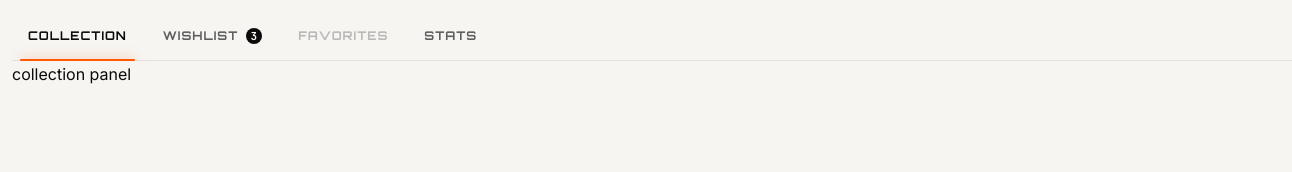
Tabs › selects on click and hides inactive panels
The width and height of the screenshot is (1292, 172).
Click the tab "Wishlist 3". click: {"x": 213, "y": 36}
box: top-left (147, 12), bottom-right (278, 60)
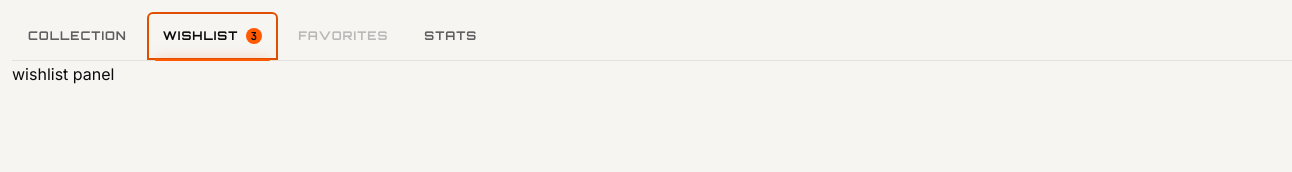
Result: the panel with id "garage-panel-collection" is gone
Result: the panel with id "garage-panel-wishlist" is shown at top-left (12, 64), bottom-right (114, 84)
